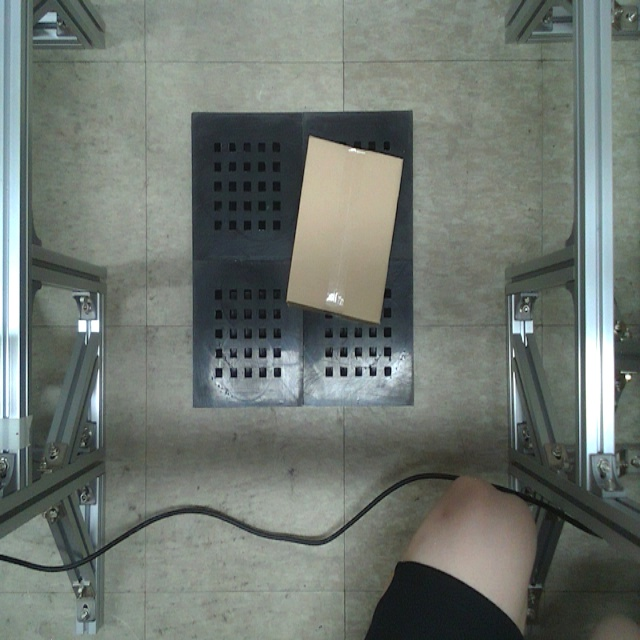box: (289, 132, 403, 321)
pallet: (191, 106, 414, 409)
